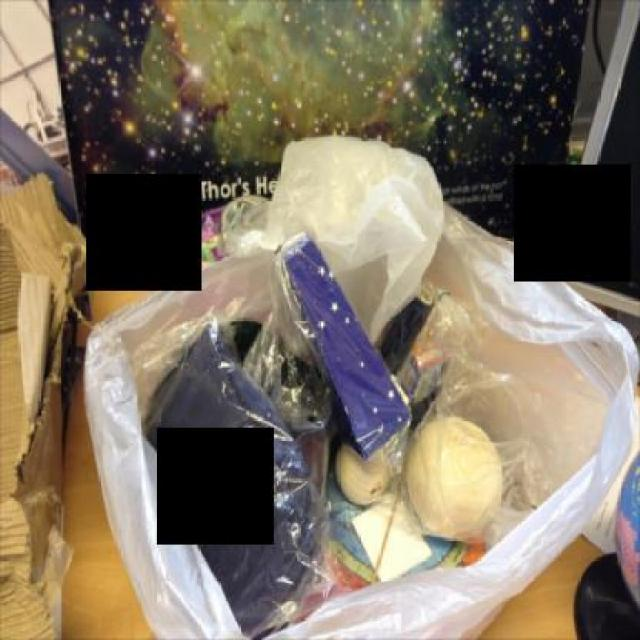plastic bag: (81, 132, 638, 638)
